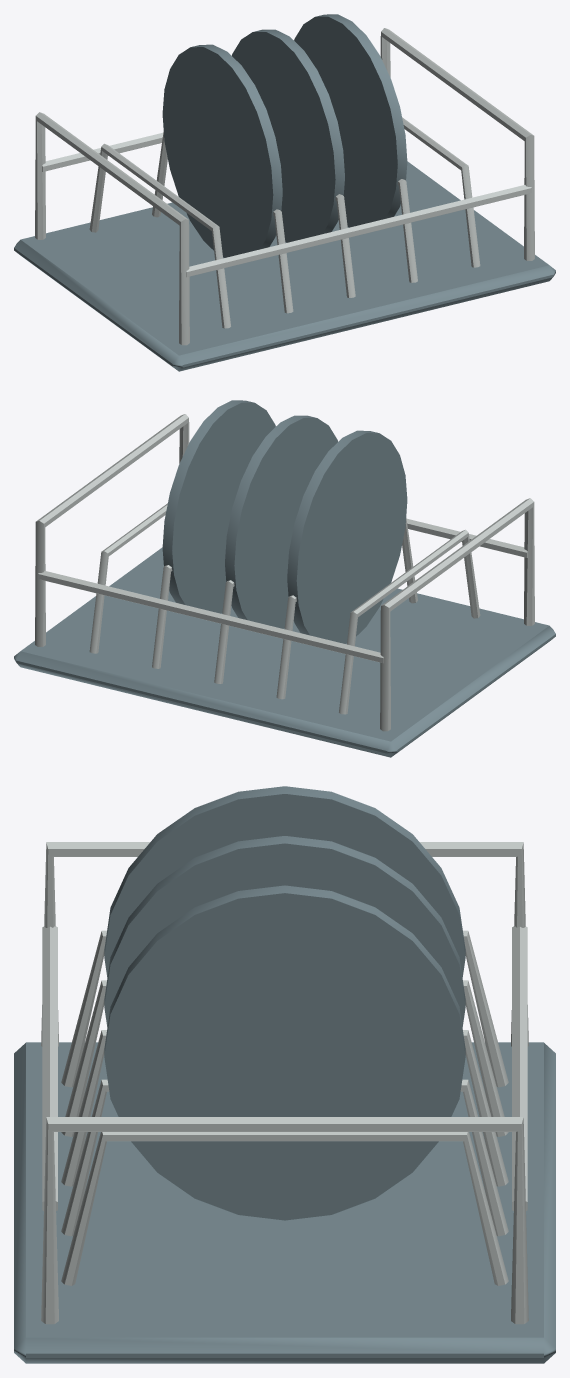
Rendered from dish-rack.glb.
The picture shows the model from 3 angles, top to bottom: view 1: azimuth 30°, elevation 25°; view 2: azimuth 150°, elevation 25°; view 3: azimuth 270°, elevation 25°; orthographic projection. The views are drawn at different scales.
Visible parts, largest first — view 1: drain_tray, upright_plate, upright_plate.002, upright_plate.001, end_frame, side_rail.001, end_frame.001, plate_divider, plate_divider.004, plate_divider.001, side_rail, plate_divider.003 (+1 smaller); view 2: drain_tray, upright_plate, upright_plate.002, upright_plate.001, end_frame, side_rail, end_frame.001, plate_divider, plate_divider.004, plate_divider.001, side_rail.001, plate_divider.003 (+1 smaller); view 3: drain_tray, upright_plate.002, upright_plate.001, upright_plate, end_frame.001, plate_divider.004, end_frame, plate_divider, side_rail, side_rail.001, plate_divider.003, plate_divider.002 (+1 smaller).
Part boxes in pixels (bbox=[...]): drain_tray: bbox=[14, 161, 555, 371]; upright_plate: bbox=[162, 44, 282, 257]; upright_plate.002: bbox=[294, 14, 407, 227]; upright_plate.001: bbox=[232, 29, 344, 242]; end_frame: bbox=[35, 112, 189, 345]; side_rail.001: bbox=[186, 185, 531, 277]; end_frame.001: bbox=[380, 28, 534, 260]; plate_divider: bbox=[89, 143, 230, 328]; plate_divider.004: bbox=[402, 117, 480, 267]; plate_divider.001: bbox=[152, 132, 293, 313]; side_rail: bbox=[42, 132, 163, 171]; plate_divider.003: bbox=[397, 179, 417, 282]; drain_tray: bbox=[14, 547, 555, 757]; upright_plate: bbox=[287, 430, 407, 643]; upright_plate.002: bbox=[162, 400, 275, 613]; upright_plate.001: bbox=[225, 415, 337, 628]; end_frame: bbox=[380, 498, 534, 731]; side_rail: bbox=[38, 571, 383, 663]; end_frame.001: bbox=[35, 414, 189, 646]; plate_divider: bbox=[339, 529, 480, 714]; plate_divider.004: bbox=[89, 503, 167, 653]; plate_divider.001: bbox=[276, 518, 417, 699]; side_rail.001: bbox=[406, 518, 527, 557]; plate_divider.003: bbox=[152, 565, 172, 668]; drain_tray: bbox=[14, 1042, 555, 1363]; upright_plate.002: bbox=[104, 885, 465, 1220]; upright_plate.001: bbox=[104, 836, 465, 1026]; upright_plate: bbox=[104, 786, 465, 977]; end_frame.001: bbox=[41, 1117, 528, 1324]; plate_divider.004: bbox=[61, 1132, 508, 1285]; end_frame: bbox=[41, 842, 528, 1046]; plate_divider: bbox=[61, 930, 508, 1087]; side_rail: bbox=[512, 926, 527, 1210]; side_rail.001: bbox=[42, 926, 57, 1210]; plate_divider.003: bbox=[61, 1079, 508, 1236]; plate_divider.002: bbox=[61, 1030, 508, 1186].
Size of the model in its own units: 0.4 by 0.23 by 0.3.
